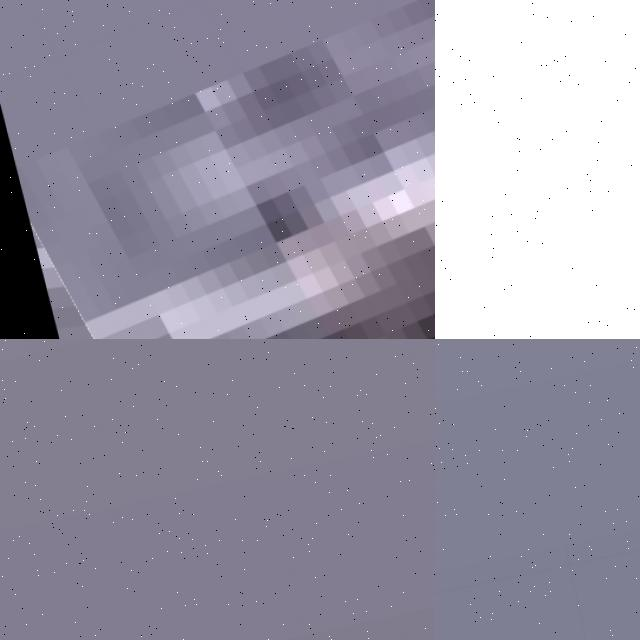0: (0, 0, 435, 339)
drone: (435, 0, 640, 339)
